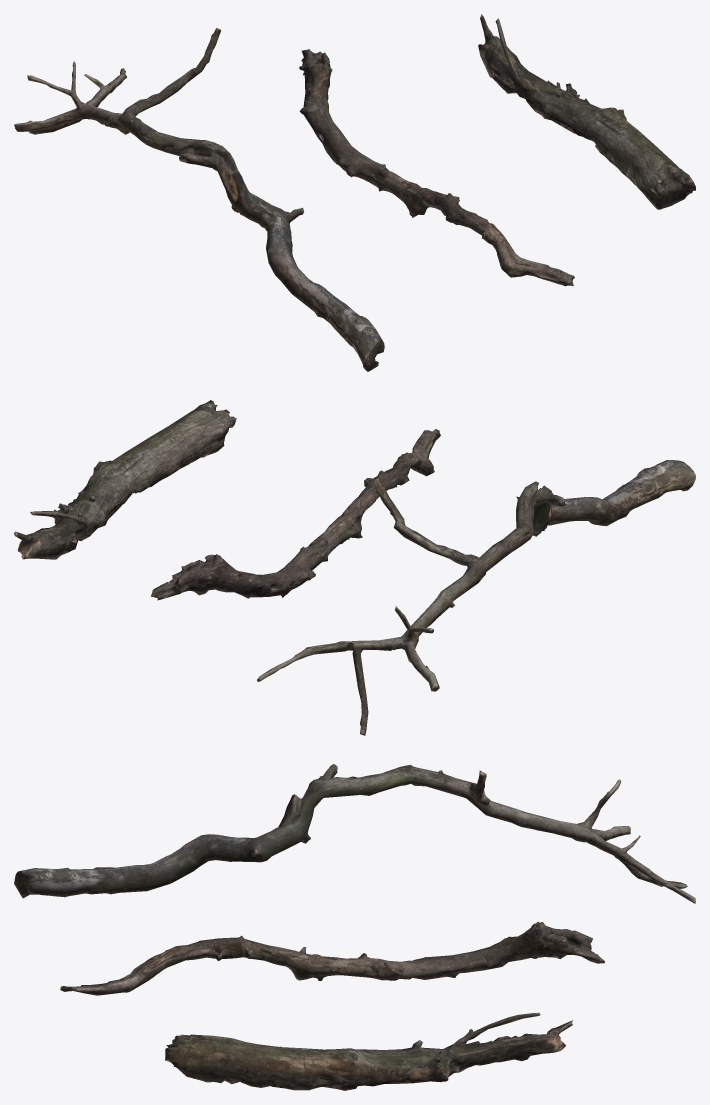
Rendered from dry_branches_medium_01.glb.
3 renders of one model, top to bottom at view 1: azimuth 30°, elevation 25°; view 2: azimuth 150°, elevation 25°; view 3: azimuth 270°, elevation 25°, orthographic. The views are drawn at different scales.
Visible parts, largest first — view 1: dry_branches_medium_01_c; view 2: dry_branches_medium_01_c; view 3: dry_branches_medium_01_c.
Part boxes in pixels (<box>): dry_branches_medium_01_c: <box>14,14,695,371</box>; dry_branches_medium_01_c: <box>14,400,695,735</box>; dry_branches_medium_01_c: <box>14,764,695,1090</box>.
Size of the model in its own units: 1.06 by 0.341 by 1.3.
1 material, 1 textured.
